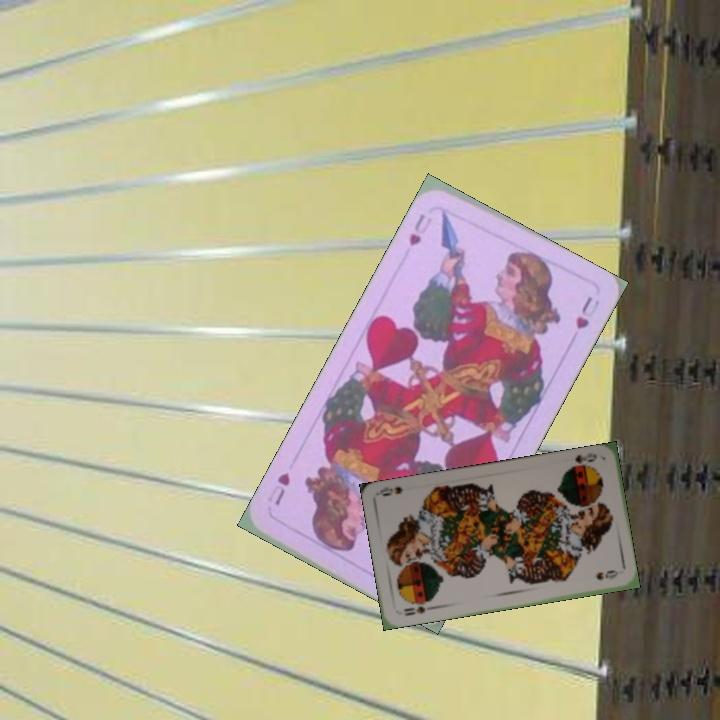HU: (404, 209, 428, 251)
SO: (563, 449, 599, 472), (400, 598, 436, 618)
